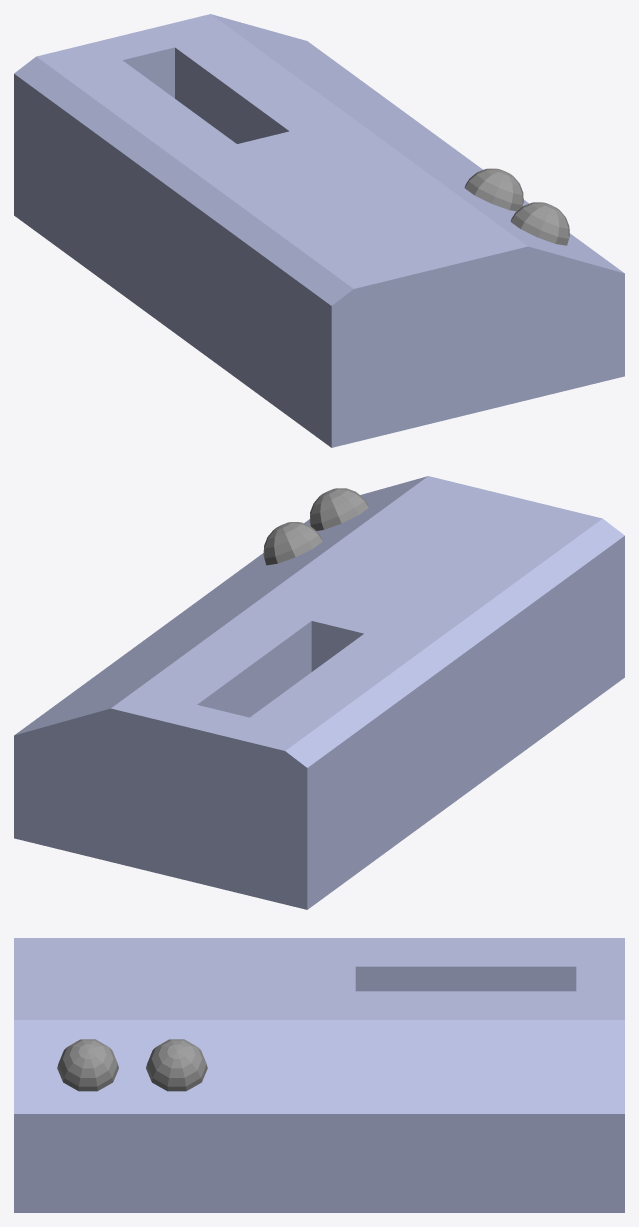
File: drug_testing machine.fbx
3 views of the same model, one above another, from view 1: azimuth 30°, elevation 25°; view 2: azimuth 150°, elevation 25°; view 3: azimuth 270°, elevation 25° (orthographic). The views are drawn at different scales.
Visible parts, largest first — view 1: testing machine, red, blue; view 2: testing machine, blue, red; view 3: testing machine, red, blue.
Boxes of the visible parts, box(x1,y1,x2,y2) form: testing machine: box(14, 14, 624, 447); red: box(510, 202, 569, 245); blue: box(464, 168, 523, 211); testing machine: box(14, 476, 624, 909); blue: box(263, 522, 322, 565); red: box(309, 488, 368, 530); testing machine: box(14, 938, 624, 1212); red: box(57, 1039, 118, 1091); blue: box(146, 1039, 207, 1091).
Bounding box in the file's own units: 160 × 80.39 × 300.
